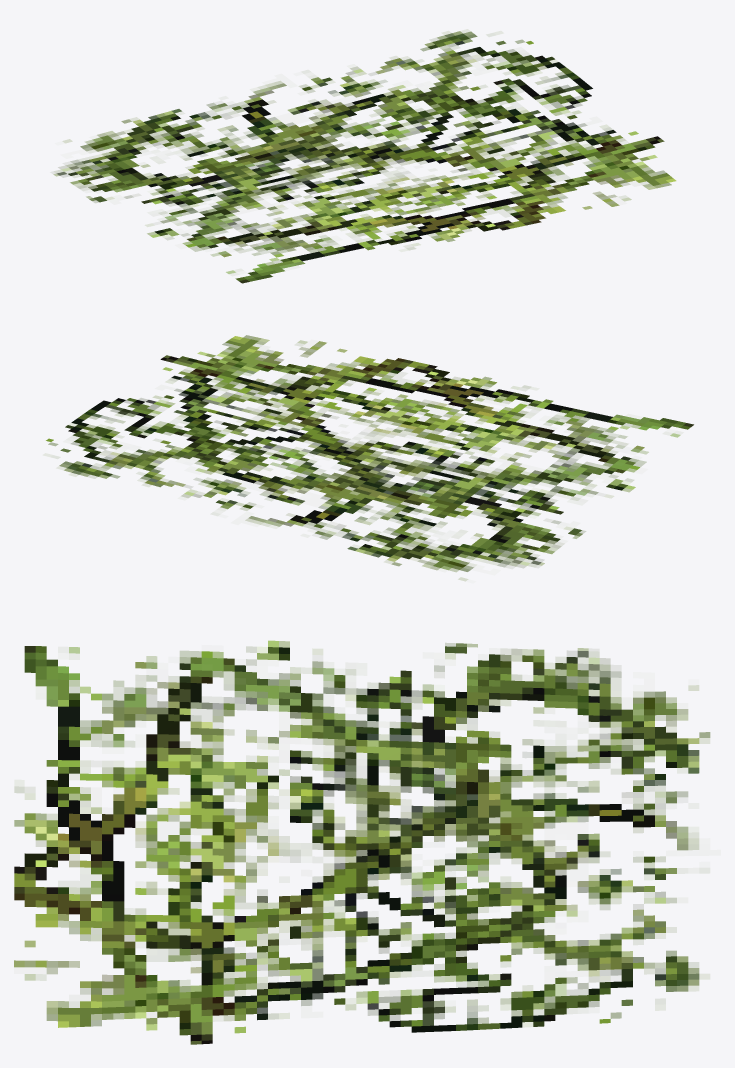
The model's file is Environment - Prop - Vines Green - PMvines01.glb.
The picture shows the model from 3 angles, top to bottom: view 1: azimuth 30°, elevation 25°; view 2: azimuth 150°, elevation 25°; view 3: azimuth 270°, elevation 25°; orthographic projection. The views are drawn at different scales.
Visible parts, largest first — view 1: PMVINES01; view 2: PMVINES01; view 3: PMVINES01.
Boxes of the visible parts, left/top/right/bottom form: PMVINES01: left=53, top=31, right=676, bottom=283; PMVINES01: left=46, top=335, right=693, bottom=580; PMVINES01: left=14, top=640, right=710, bottom=1044.
Size of the model in its own units: 33.75 by 1.05 by 24.99.
Materials: 1 (1 with a texture image).
